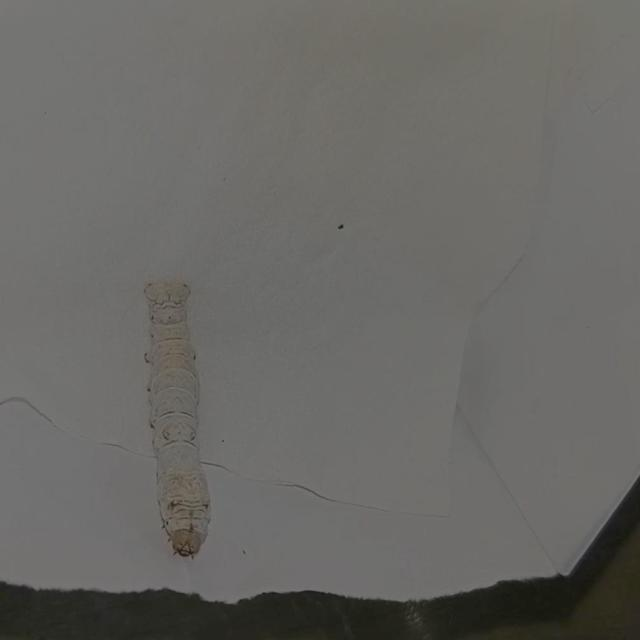Healthy: (109, 228, 336, 585)
